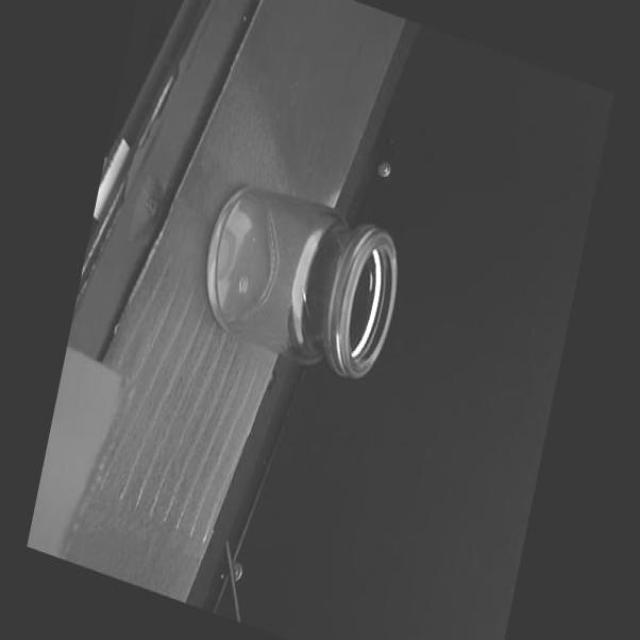defect: (299, 286, 311, 317)
glass: (190, 168, 410, 393)
